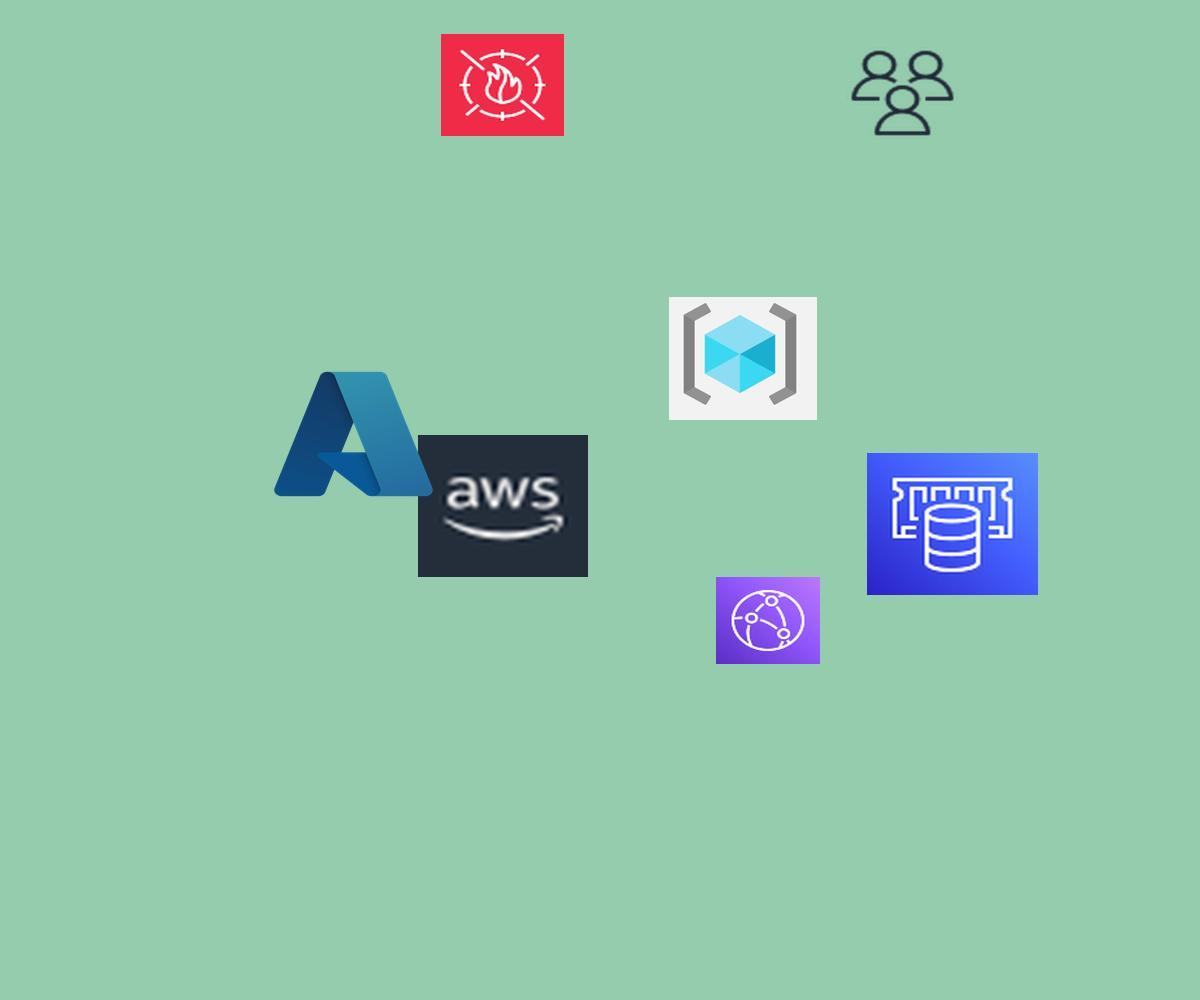AWS-Cloud-logo: (418, 435, 588, 577)
AWS-CloudFront: (716, 577, 820, 664)
AWS-ElastiCache: (867, 453, 1038, 595)
AWS-Res_Users: (847, 47, 958, 139)
AWS-WAF: (441, 34, 564, 136)
Azure_resource_group: (669, 297, 817, 420)
Azure_services: (267, 362, 440, 506)
